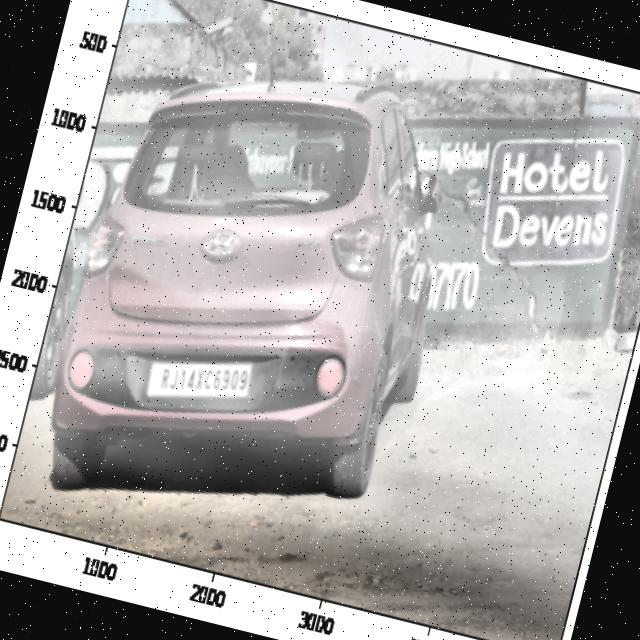license_plate: (152, 344, 254, 413)
